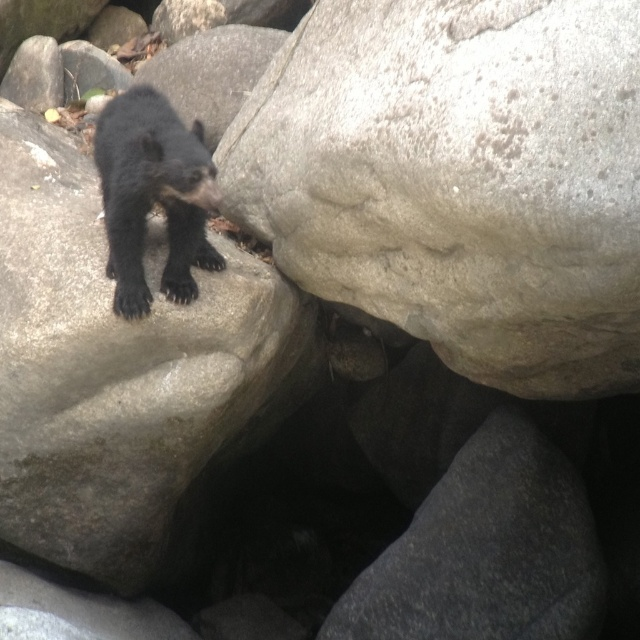Bear: (93, 80, 226, 322)
